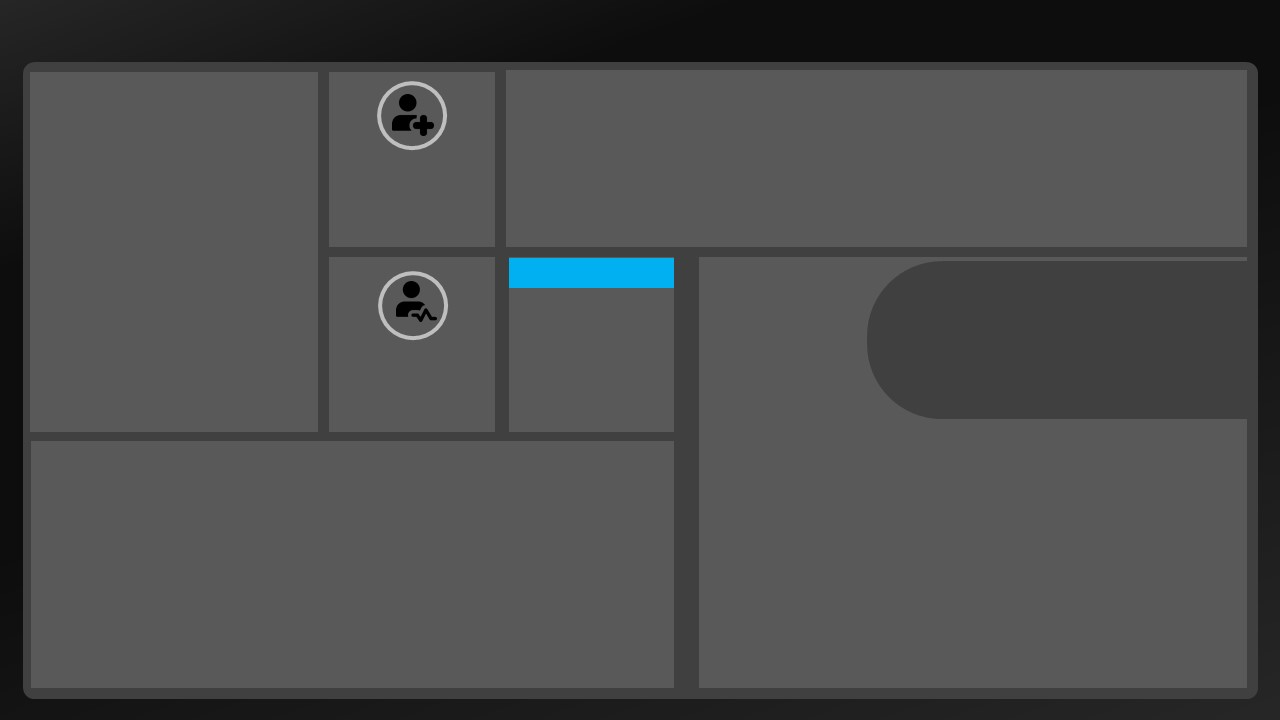

What the dashboard file says about the page in this screenshot:
{"tool":"powerbi","page":{"name":"Tooltip","canvas":[200,450],"ordinal":3},"visuals":[{"type":"card","fields":{"Values":["Min(providers.Provider Name)"]},"box":[0,0,199.8,41.5],"z":0},{"type":"simpleImageEBC4593F96F1425FB3D84C5BF02B5075","fields":{"imageURL":["providers.Image"]},"box":[0,41.5,199.8,205.1],"z":1000},{"type":"tableEx","fields":{"Values":["providers.Age","providers.Nationality"]},"box":[0,257.9,199.8,67.1],"z":2000},{"type":"card","title":"Patients Attended to","fields":{"Values":["DAX Calculation.Total Patients"]},"box":[0,325,199.8,63.3],"z":3000},{"type":"card","title":"Patients Attended to","fields":{"Values":["DAX Calculation.Patient Satisfaction Score"]},"box":[0,388.3,199.8,61.8],"z":4000}]}

Visuals, with their boxes on the page's 200x450 design canvas (x1, y1, x2, y2). These are canvas units, not pixel positions in the 1280x720 screenshot, which may show the page scaled, cropped or inside an application window:
card - Min(providers.Provider Name): bbox(0, 0, 200, 42)
simpleImageEBC4593F96F1425FB3D84C5BF02B5075 - providers.Image: bbox(0, 42, 200, 247)
tableEx - providers.Age x providers.Nationality: bbox(0, 258, 200, 325)
"Patients Attended to" card: bbox(0, 325, 200, 388)
"Patients Attended to" card: bbox(0, 388, 200, 450)
